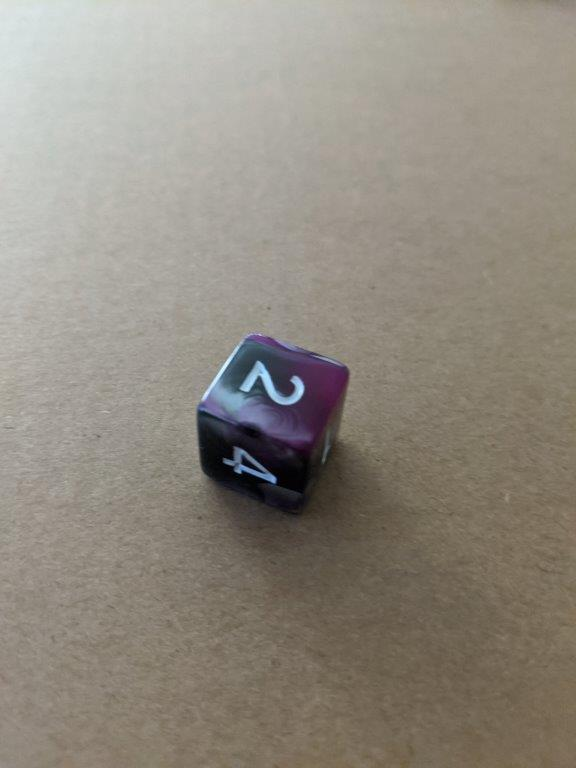d6-2: (197, 333, 351, 517)
